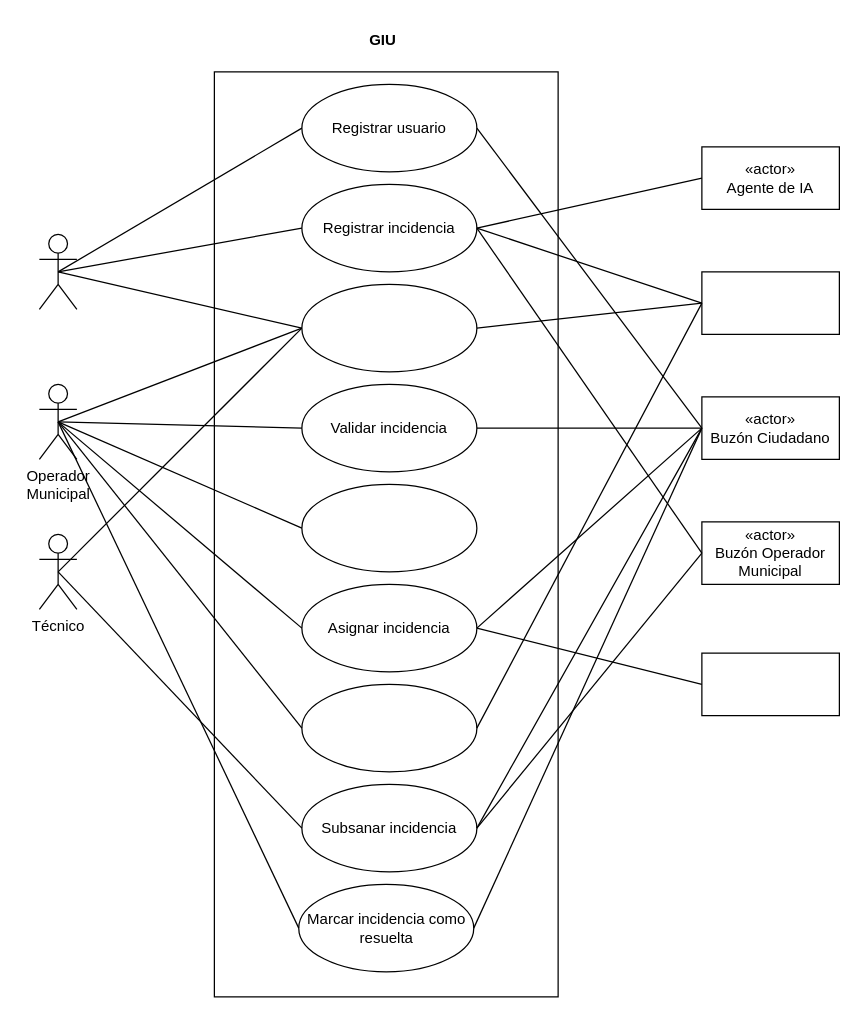
Image size: 861x1019. Some labels were removed from this diagram. Here are the shapes that lost their labels. From the top down, the centre of each, then its label:
(x=57, y=271): Ciudadano
(x=770, y=302): «actor» Servicio de mapas
(x=389, y=327): Consultar incidencia
(x=389, y=527): Generar informe
(x=770, y=684): «actor» Buzón Técnico
(x=389, y=727): Filtrar incidencias
